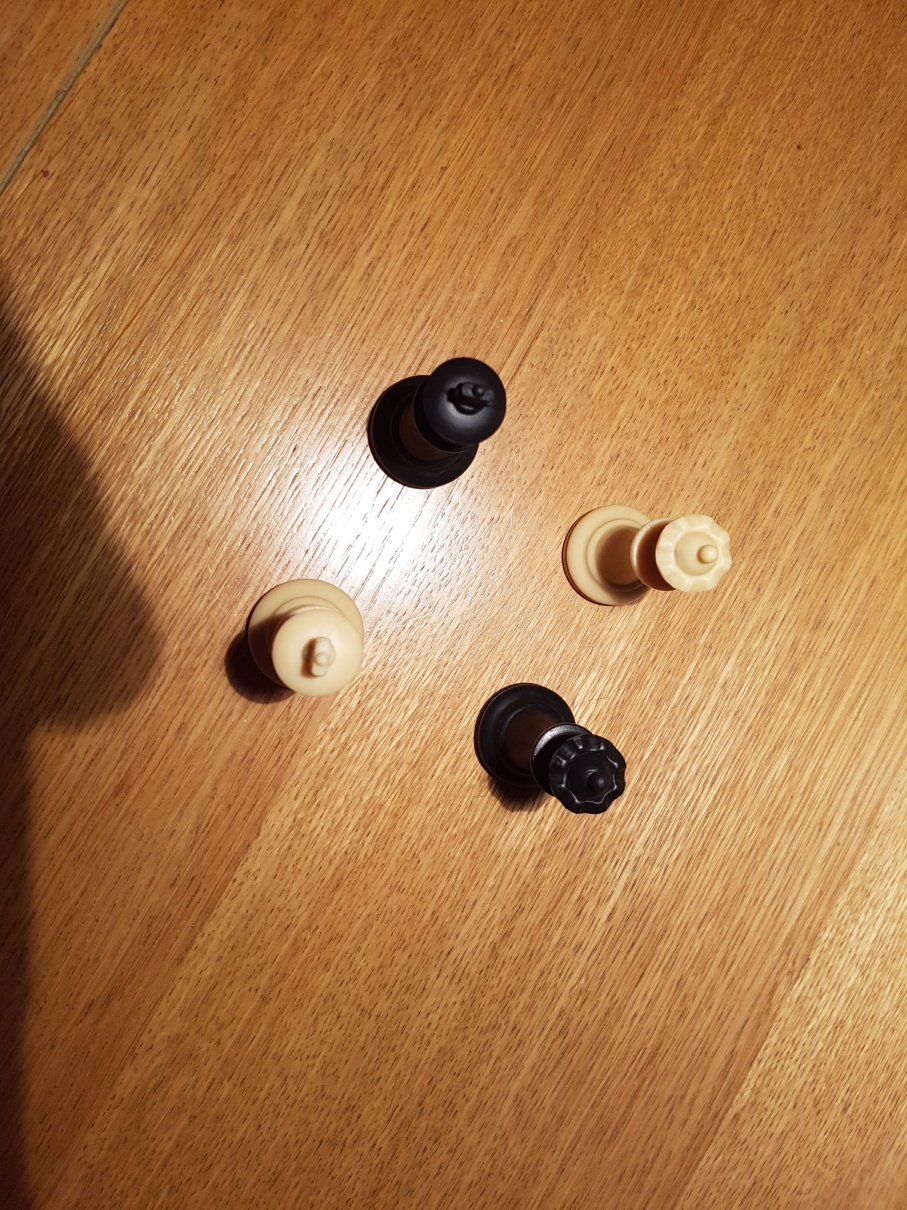chess_king: (364, 355, 504, 490), (246, 577, 367, 699)
chess_queen: (474, 681, 625, 816), (564, 501, 733, 608)
